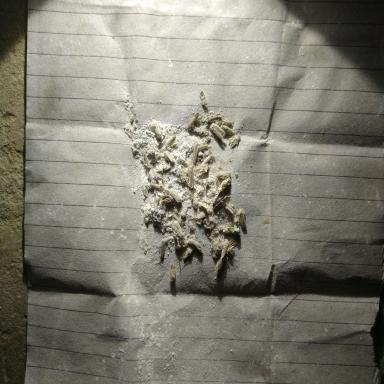pbw: (212, 191, 232, 209), (209, 122, 226, 140), (185, 111, 199, 130), (213, 117, 236, 128), (225, 238, 237, 259), (184, 164, 194, 188), (190, 239, 205, 255), (202, 116, 225, 126), (217, 176, 231, 192), (193, 163, 209, 177), (172, 220, 184, 238), (156, 238, 165, 260), (226, 134, 240, 148), (179, 247, 193, 261), (168, 259, 176, 283), (225, 200, 236, 217), (164, 136, 178, 149), (188, 191, 198, 209), (199, 90, 208, 110), (215, 254, 224, 273), (170, 189, 182, 203), (198, 135, 212, 147), (221, 123, 235, 135), (153, 122, 162, 140), (220, 238, 228, 258), (173, 240, 189, 250), (238, 208, 246, 228), (164, 150, 175, 164), (147, 164, 155, 183), (200, 154, 212, 166), (215, 171, 231, 180), (174, 167, 189, 176), (160, 195, 173, 205), (142, 144, 155, 154), (179, 171, 189, 184), (156, 172, 164, 188), (192, 144, 198, 164), (151, 152, 161, 164), (144, 154, 151, 169), (198, 143, 209, 152), (154, 196, 160, 212), (150, 183, 161, 191), (198, 202, 208, 210)
